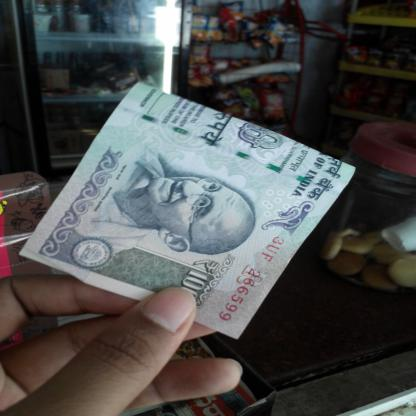Old100Front: (17, 80, 357, 340)
